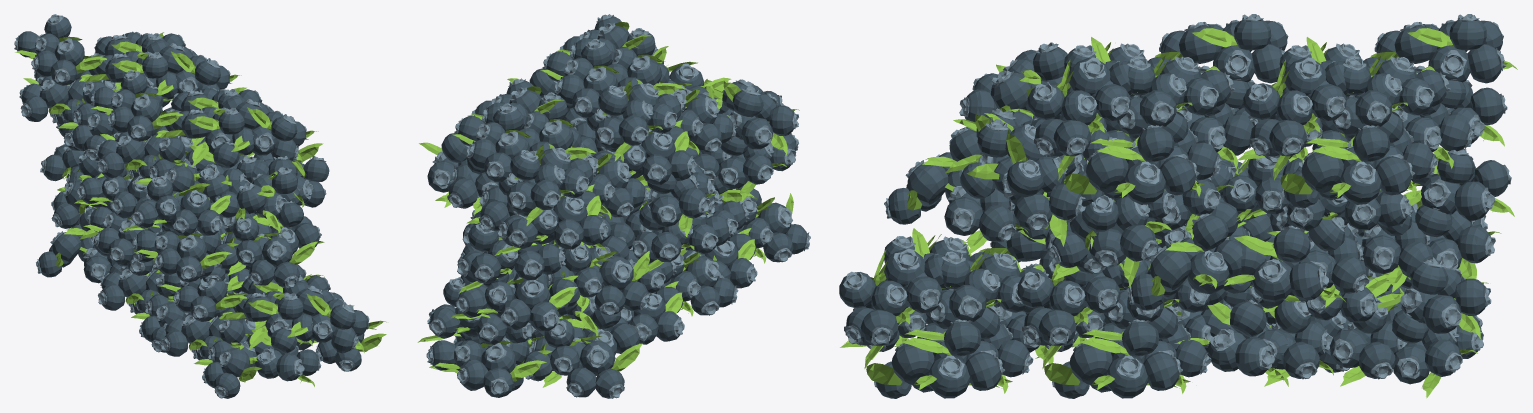
File: blueberries1_fixed.glb
The picture shows the model from 3 angles, left to right: view 1: azimuth 30°, elevation 25°; view 2: azimuth 150°, elevation 25°; view 3: azimuth 270°, elevation 25°; orthographic projection. The views are drawn at different scales.
Parts seen in each view (by area): view 1: Node.007; view 2: Node.007; view 3: Node.007.
Boxes of the visible parts, <box> form: Node.007: <box>14,14,386,398</box>; Node.007: <box>417,14,810,398</box>; Node.007: <box>839,14,1517,398</box>.
Size of the model in its own units: 0.4004 by 0.3945 by 0.7573.
